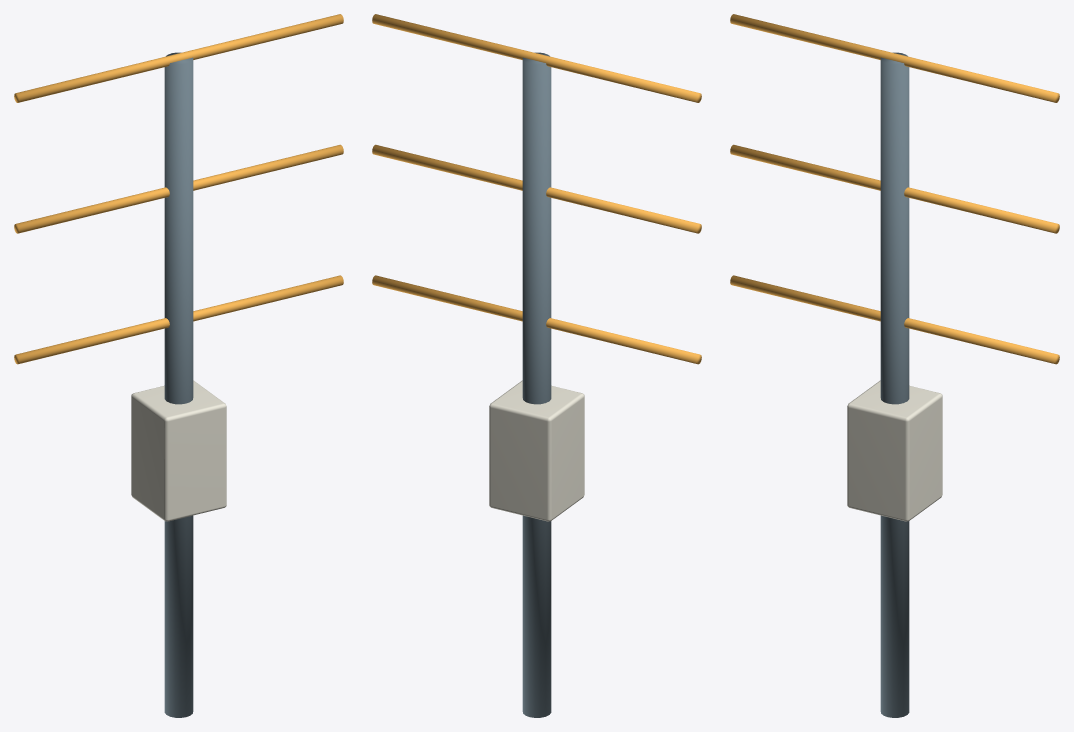
Rendered from SM_FE_Antenna.fbx.
The picture shows the model from 3 angles, left to right: view 1: azimuth 30°, elevation 25°; view 2: azimuth 150°, elevation 25°; view 3: azimuth 330°, elevation 25°; orthographic projection.
Parts seen in each view (by area): view 1: SM_FE_Antenna; view 2: SM_FE_Antenna; view 3: SM_FE_Antenna.
Boxes of the visible parts, x1,y1,x2,y2 form: SM_FE_Antenna: (14, 14, 343, 717); SM_FE_Antenna: (372, 14, 701, 717); SM_FE_Antenna: (730, 14, 1059, 717).
Size of the model in its own units: 260 by 50 by 503.
